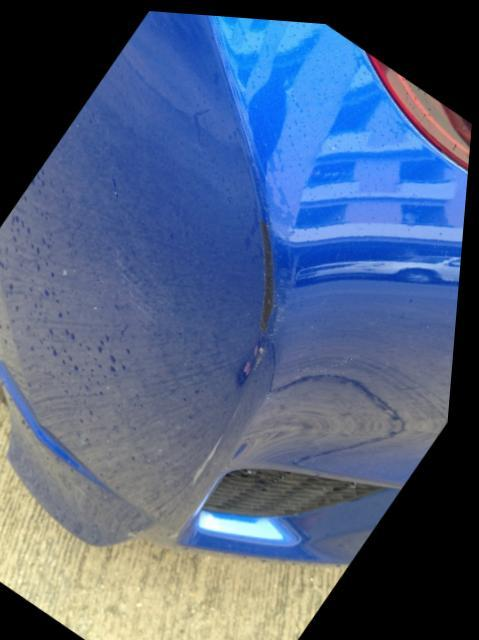scratch: (243, 203, 303, 380)
